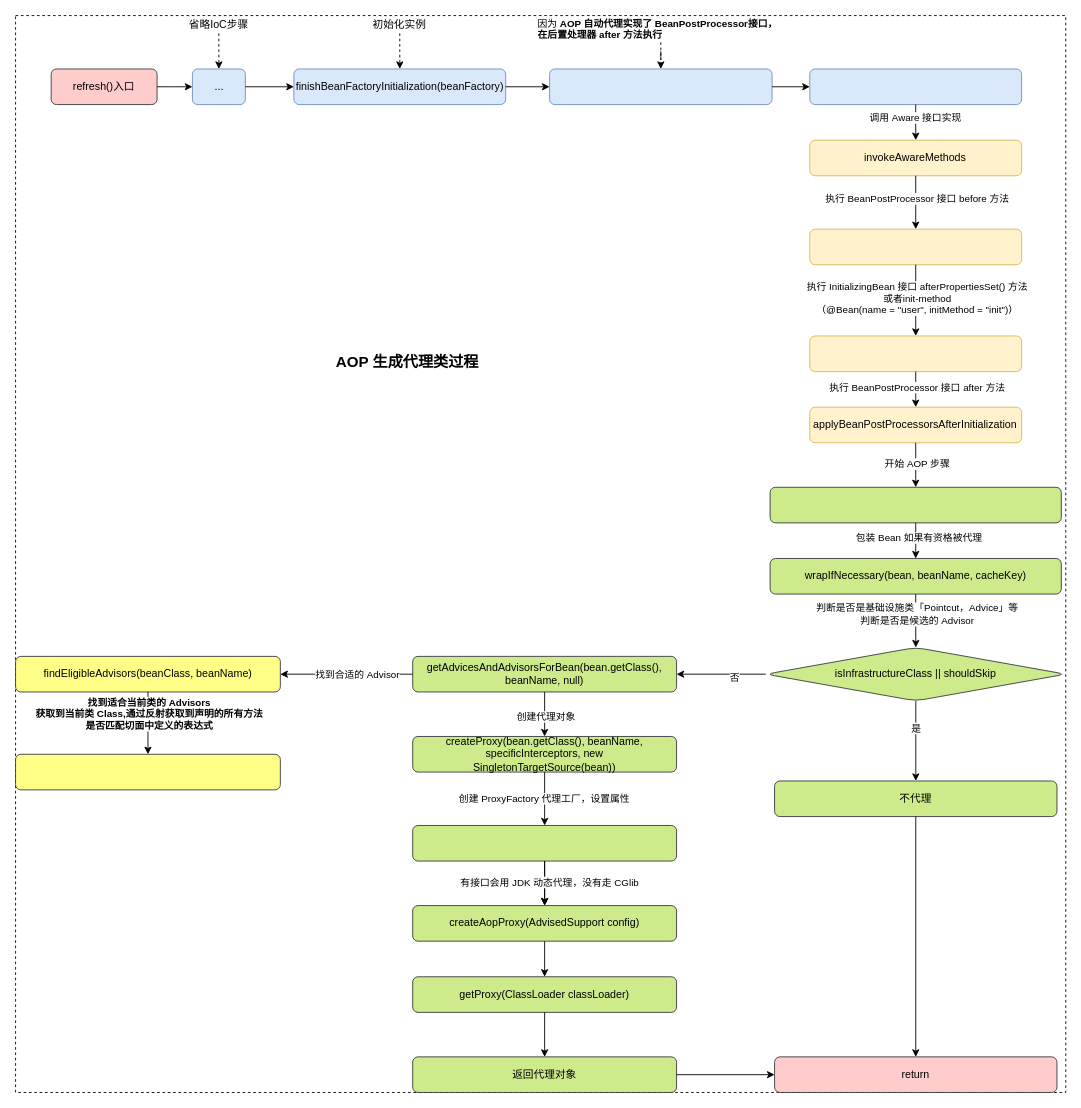
This 1081x1108 diagram has some shape labels left out. The shapes that lost their labels are listed below. From the top down, each one's box as (x1, y1, x2, y2) in pixels, then its label:
(549, 68, 772, 105): 省略 Bean 实例话过程，直接到初始化方法
(809, 68, 1022, 105): initializeBean(beanName, exposedObject, mbd)
(809, 228, 1022, 265): applyBeanPostProcessorsBeforeInitialization
(809, 335, 1022, 372): invokeInitMethods
(769, 486, 1061, 523): processor.postProcessAfterInitialization(result, beanName)
(15, 753, 280, 790): AopUtils.findAdvisorsThatCanApply(candidateAdvisors, beanClass)
(412, 825, 677, 861): buildAdvisors(beanName, specificInterceptors)
